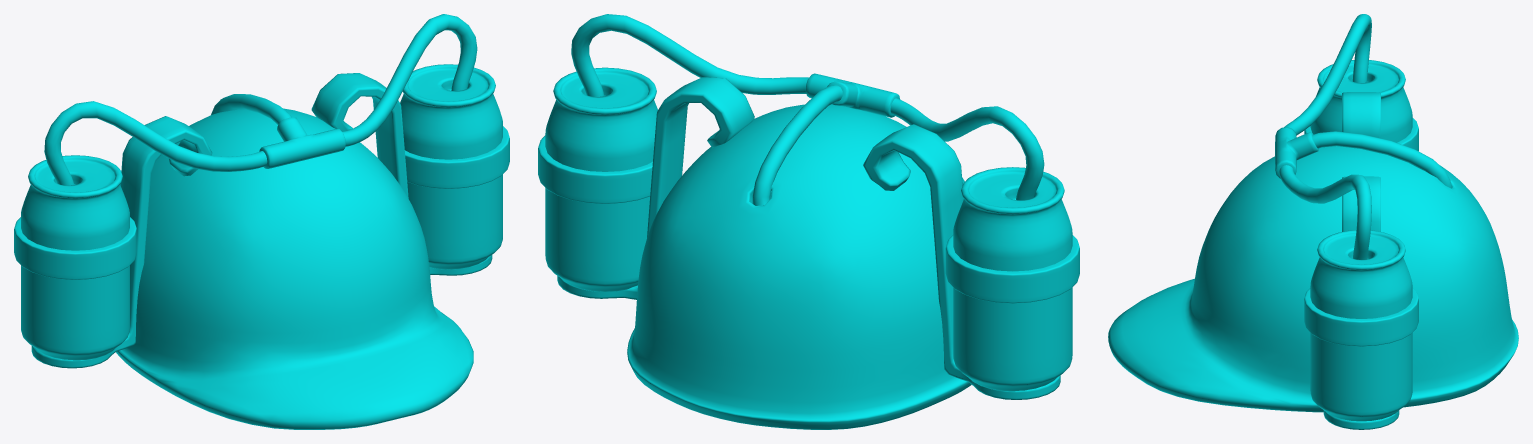
The model's file is FBX_DrinkHat.fbx.
3 views of the same model, side by side, from view 1: azimuth 30°, elevation 25°; view 2: azimuth 150°, elevation 25°; view 3: azimuth 270°, elevation 25° (orthographic). The views are drawn at different scales.
Parts seen in each view (by area): view 1: polySurface120; view 2: polySurface120; view 3: polySurface120.
Boxes of the visible parts, x1,y1,x2,y2 form: polySurface120: [14, 14, 509, 429]; polySurface120: [538, 14, 1079, 429]; polySurface120: [1108, 14, 1518, 429].
Size of the model in its own units: 112 by 60.5 by 88.83.
